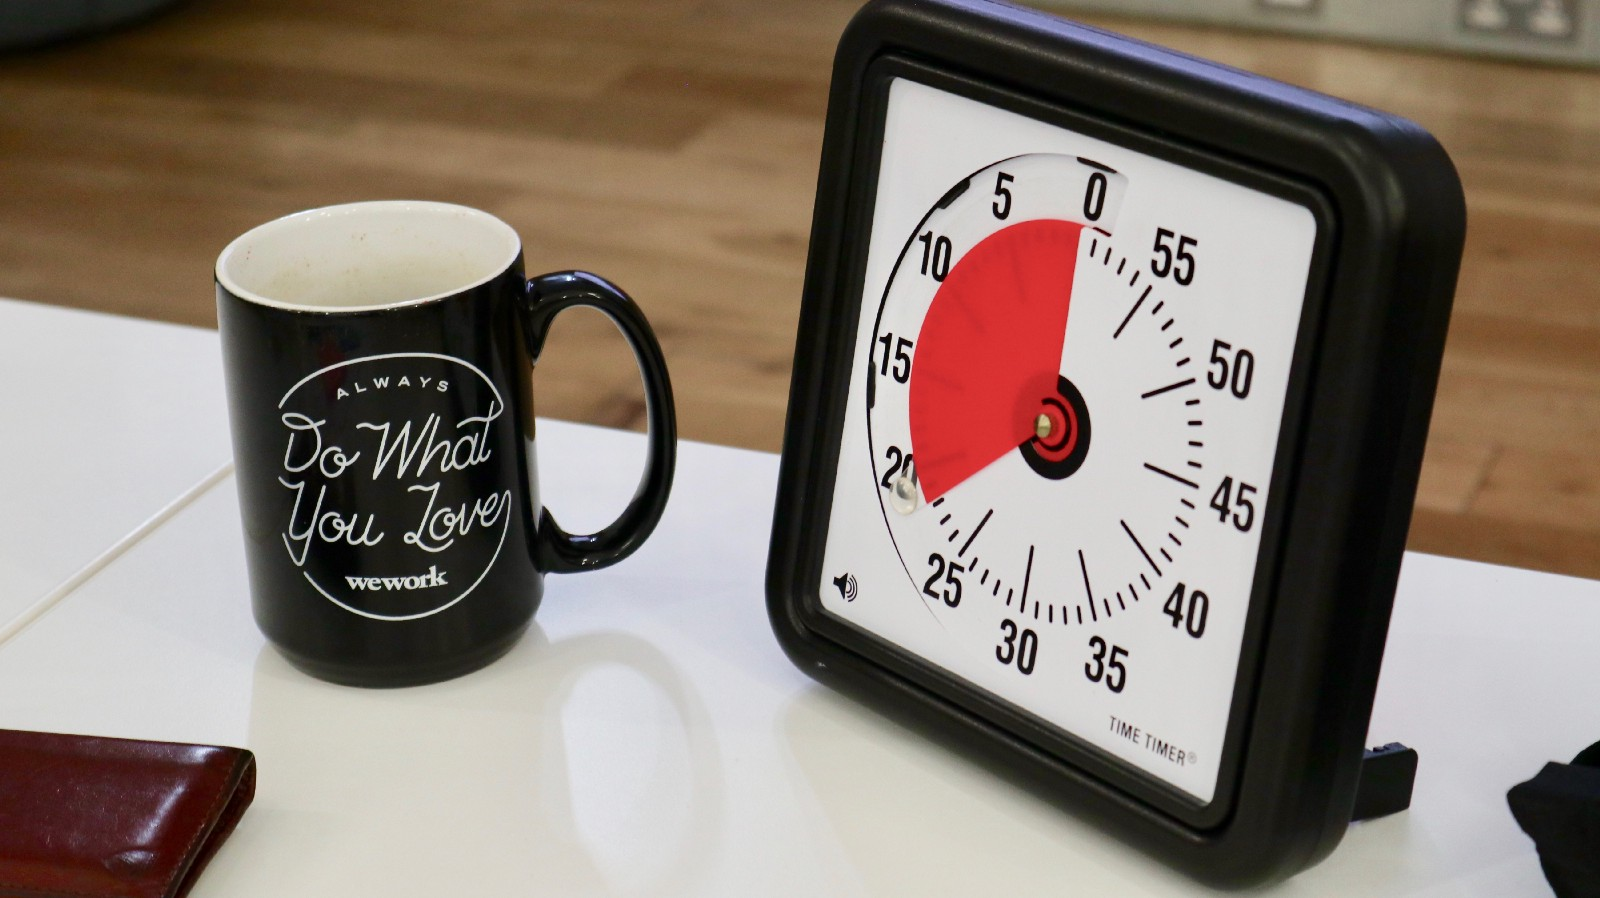wework: (341, 562, 451, 592)
